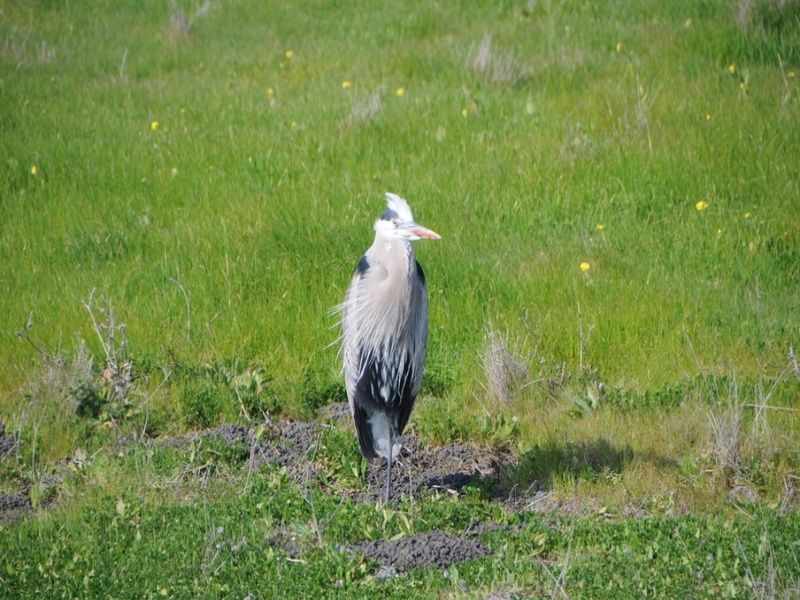heron: (338, 191, 442, 478)
